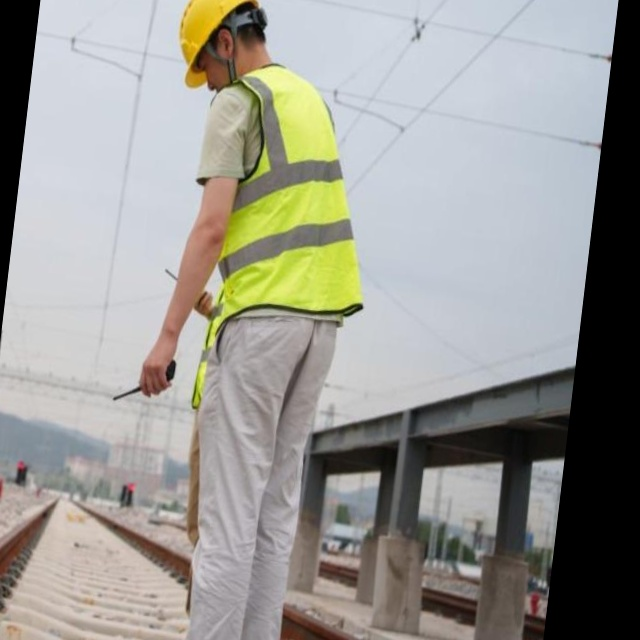Con_Casco: (171, 0, 268, 104)
Con_Chaleco: (202, 63, 386, 327)
